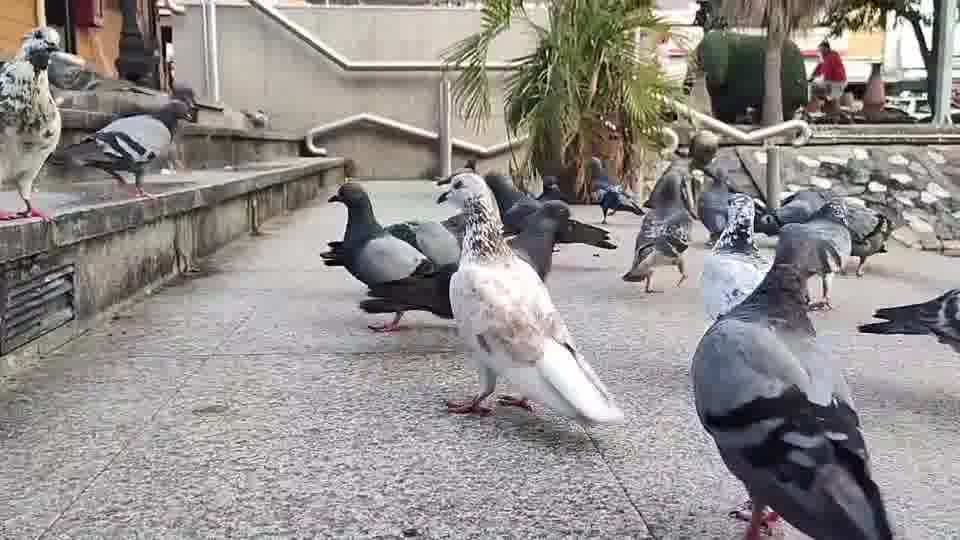Pigeon: (688, 257, 893, 538), (436, 186, 625, 434), (319, 180, 460, 332), (65, 98, 194, 201), (0, 29, 63, 225), (621, 162, 697, 293), (855, 286, 959, 354), (585, 156, 644, 224)
